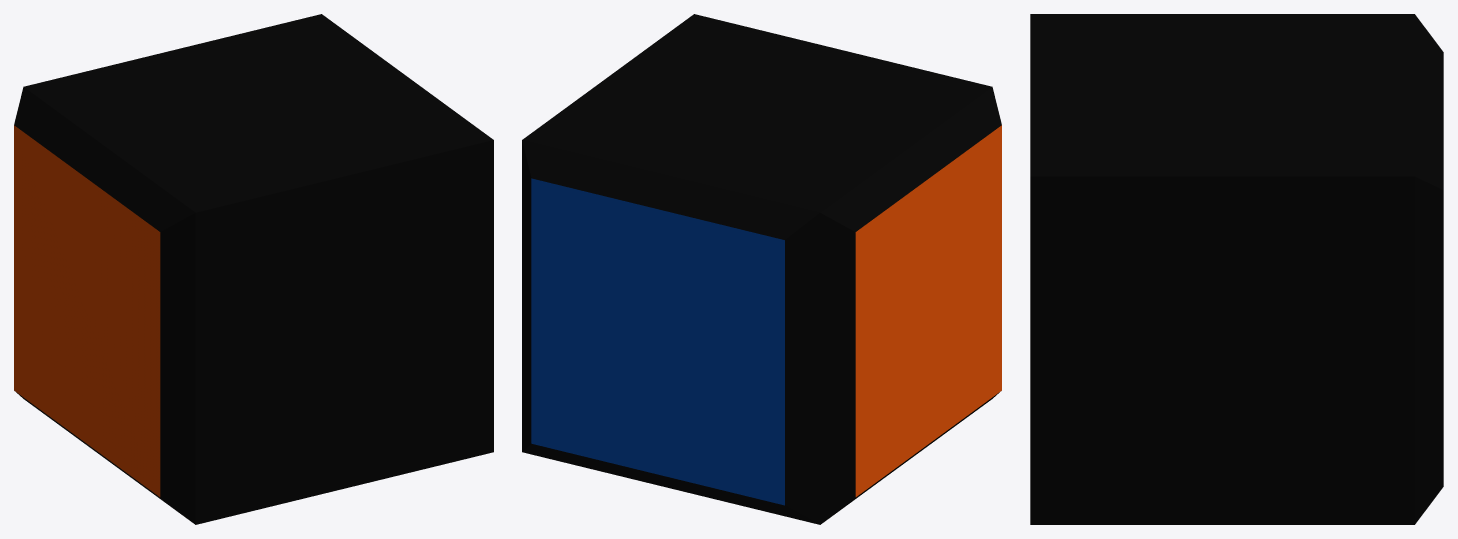
The model's file is rubiks_cube_13.glb.
3 views of the same model, side by side, from view 1: azimuth 30°, elevation 25°; view 2: azimuth 150°, elevation 25°; view 3: azimuth 270°, elevation 25° (orthographic). The views are drawn at different scales.
Visible parts, largest first — view 1: Cube13.001; view 2: Cube13.001; view 3: Cube13.001.
Boxes of the visible parts, x1=… form: Cube13.001: x1=14, y1=14, x2=493, y2=524; Cube13.001: x1=522, y1=14, x2=1001, y2=524; Cube13.001: x1=1030, y1=14, x2=1443, y2=524.
Size of the model in its own units: 2.15 by 2 by 2.15.
